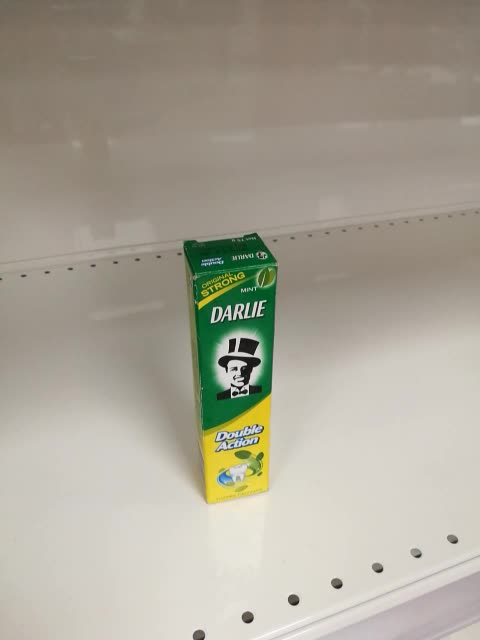toothpaste: (183, 232, 278, 505)
